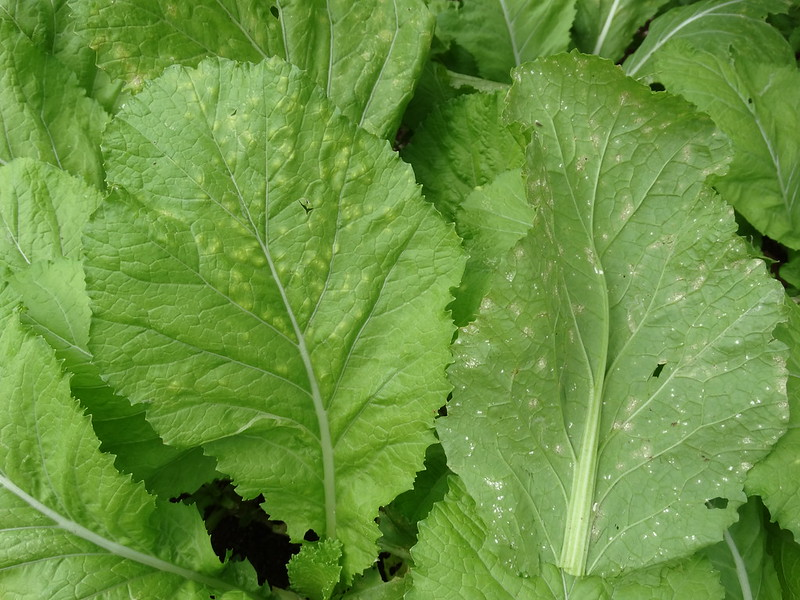Mustard_WhiteRust: (508, 78, 763, 568)
